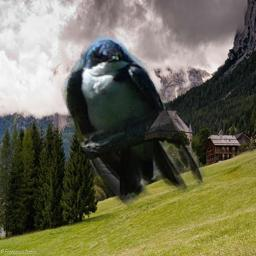Swallow: (61, 35, 209, 212)
